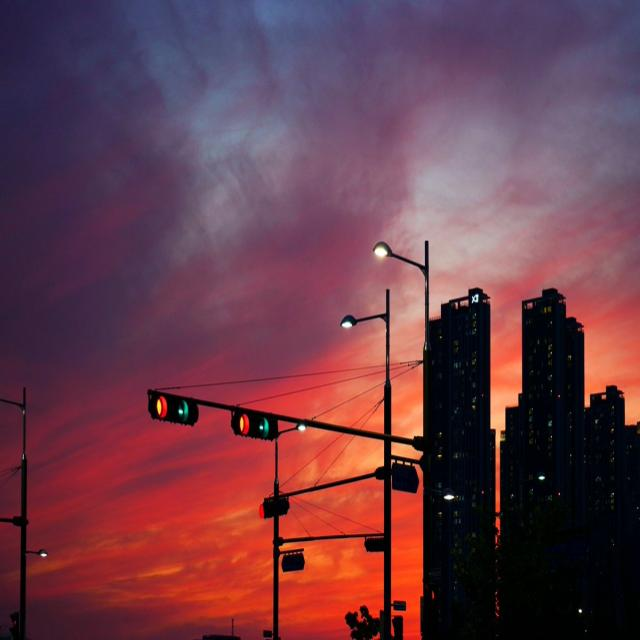Red Light: (151, 392, 168, 420), (236, 408, 250, 438)
